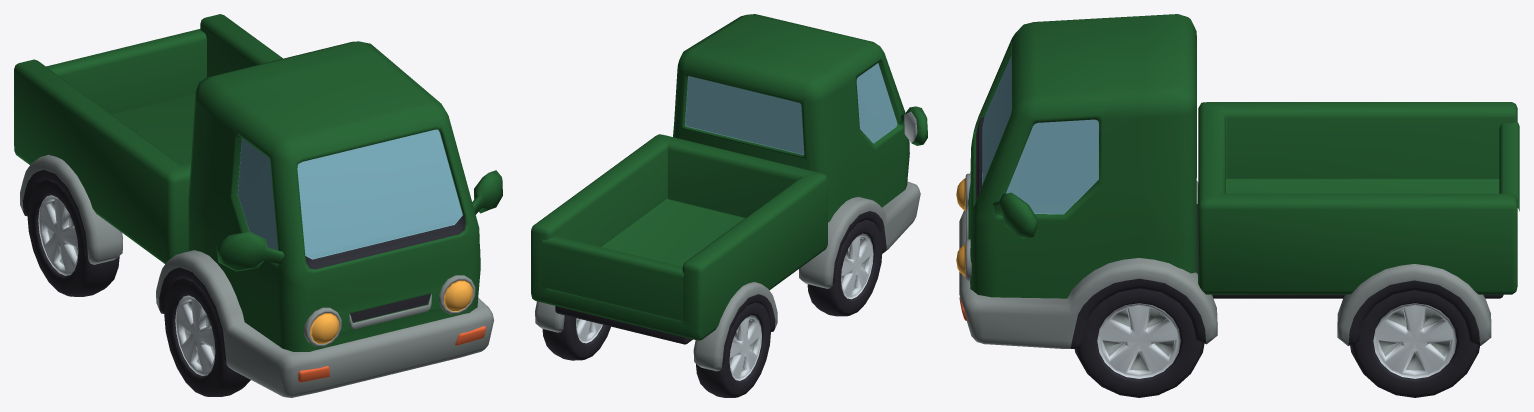
The model's file is green_truck.fbx.
3 renders of one model, left to right at view 1: azimuth 30°, elevation 25°; view 2: azimuth 150°, elevation 25°; view 3: azimuth 270°, elevation 25°, orthographic. The views are drawn at different scales.
Visible parts, largest first — view 1: green_truck, tire.003, tire.001; view 2: green_truck, tire.001, tire.003, tire.004; view 3: green_truck, tire.002, tire.004.
Part boxes in pixels (x1,y1,x2,y2): green_truck: (14,14,502,397); tire.003: (27,179,119,296); tire.001: (164,278,250,396); green_truck: (531,14,927,371); tire.001: (807,219,882,316); tire.003: (696,302,770,397); tire.004: (542,315,610,360); green_truck: (956,14,1519,348); tire.002: (1074,288,1204,397); tire.004: (1350,290,1479,397).
Bounding box in the file's own units: 8.95 × 8.97 × 15.36.
